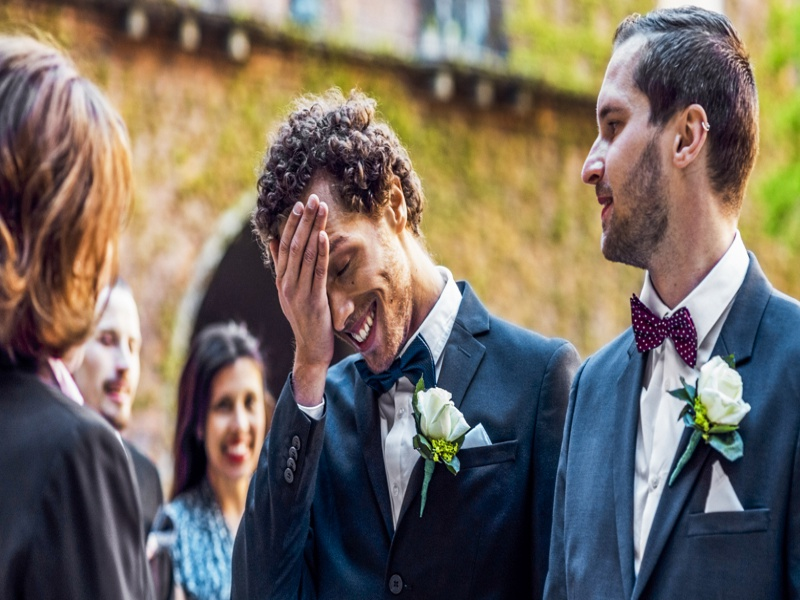TsisyArotava: (233, 99, 434, 374), (570, 24, 713, 275)
